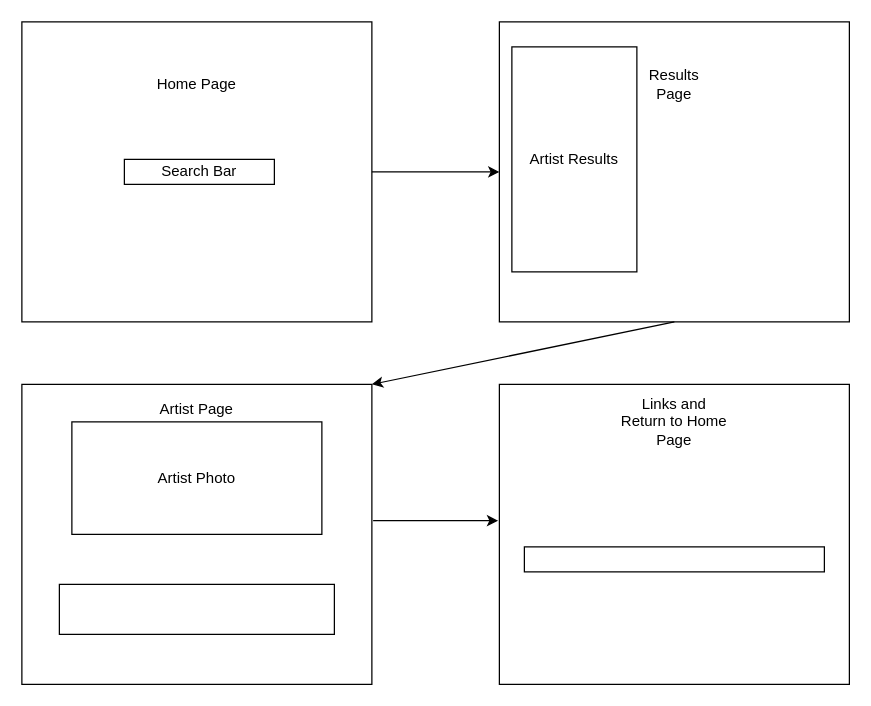
Image size: 871x706. Some labels were removed from this diagram. Each missing label, with the centre of its shape:
"Artist Description" goes at point (196, 608).
"Links" goes at point (673, 559).
